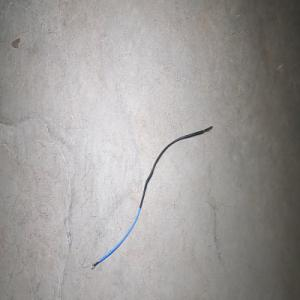Wire: (90, 125, 212, 269)
